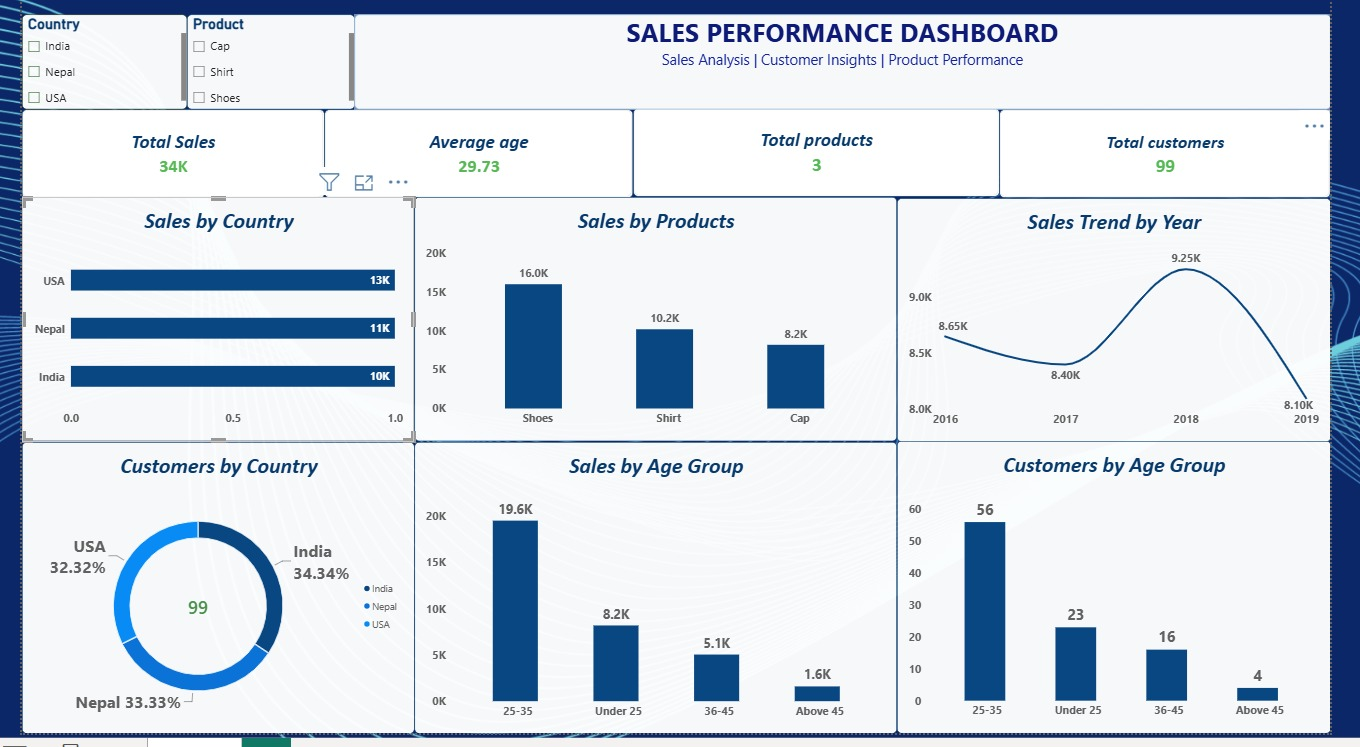

The dashboard page shown, as its layout file describes it:
{"tool":"powerbi","page":{"name":"sales performance dashboard","canvas":[1920,1080],"ordinal":0},"visuals":[{"type":"cardVisual","title":"Total sales","fields":{"Data":["AnalystAssistantHiringProcess_A.Total Sales"]},"box":[0,165.1,443.9,130.2],"z":0},{"type":"cardVisual","fields":{"Data":["AnalystAssistantHiringProcess_A.Average age"]},"box":[444.6,164.7,452.8,129.7],"z":1},{"type":"cardVisual","fields":{"Data":["AnalystAssistantHiringProcess_A.Total products"]},"box":[896.9,163.2,537.2,129.7],"z":2},{"type":"cardVisual","fields":{"Data":["AnalystAssistantHiringProcess_A.Total customers"]},"box":[1434.7,164.7,485.8,129.7],"z":3},{"type":"clusteredColumnChart","title":"Sales by Products","fields":{"Category":["AnalystAssistantHiringProcess_A. Product"],"Y":["AnalystAssistantHiringProcess_A.Total Sales"]},"box":[576.7,295,708,374.2],"z":4},{"type":"clusteredBarChart","title":"Sales by Country","fields":{"Category":["AnalystAssistantHiringProcess_A. Country"],"Y":["AnalystAssistantHiringProcess_A.Total Sales"]},"box":[0,293.5,576,374.2],"z":5},{"type":"donutChart","title":"Customers by Country","fields":{"Category":["AnalystAssistantHiringProcess_A. Country"],"Y":["AnalystAssistantHiringProcess_A.Total customers"]},"box":[0,667.7,576,412.7],"z":6},{"type":"clusteredColumnChart","title":"Customers by Age Group","fields":{"Category":["AnalystAssistantHiringProcess_A.Age Group"],"Y":["CountNonNull(AnalystAssistantHiringProcess_A.CustomerCode)"]},"box":[1284,667.7,636.5,412.7],"z":7},{"type":"clusteredColumnChart","title":"Sales by Age Group","fields":{"Category":["AnalystAssistantHiringProcess_A.Age Group"],"Y":["Sum(AnalystAssistantHiringProcess_A. Amount)"]},"box":[576,668,708,412.7],"z":8},{"type":"lineChart","title":"Sales Trend by Year","fields":{"Category":["LocalDateTable_8cd2e976-5810-4c6c-ab5d-fab60b268df8.Year"],"Y":["Sum(AnalystAssistantHiringProcess_A. Amount)"]},"box":[1284,295.3,636.5,372.4],"z":9},{"type":"slicer","fields":{"Values":["AnalystAssistantHiringProcess_A. Country"]},"box":[0,0,370.5,165.1],"z":10},{"type":"slicer","fields":{"Values":["AnalystAssistantHiringProcess_A. Product"]},"box":[370.5,0,370.5,165.1],"z":11},{"type":"textbox","box":[741.7,0,1178.3,165],"z":12}]}

Visuals, with their boxes in screenshot pixels (x1, y1, x2, y2), scaled from the page's 1920x1080 canvas onto the 1360x747 screenshot:
"Total sales" cardVisual: region(0, 114, 314, 204)
cardVisual - AnalystAssistantHiringProcess_A.Average age: region(315, 114, 636, 204)
cardVisual - AnalystAssistantHiringProcess_A.Total products: region(635, 113, 1016, 203)
cardVisual - AnalystAssistantHiringProcess_A.Total customers: region(1016, 114, 1359, 204)
"Sales by Products" clusteredColumnChart: region(408, 204, 910, 463)
"Sales by Country" clusteredBarChart: region(0, 203, 408, 462)
"Customers by Country" donutChart: region(0, 462, 408, 746)
"Customers by Age Group" clusteredColumnChart: region(910, 462, 1359, 746)
"Sales by Age Group" clusteredColumnChart: region(408, 462, 910, 746)
"Sales Trend by Year" lineChart: region(910, 204, 1359, 462)
slicer - AnalystAssistantHiringProcess_A. Country: region(0, 0, 262, 114)
slicer - AnalystAssistantHiringProcess_A. Product: region(262, 0, 525, 114)
textbox: region(525, 0, 1359, 114)
